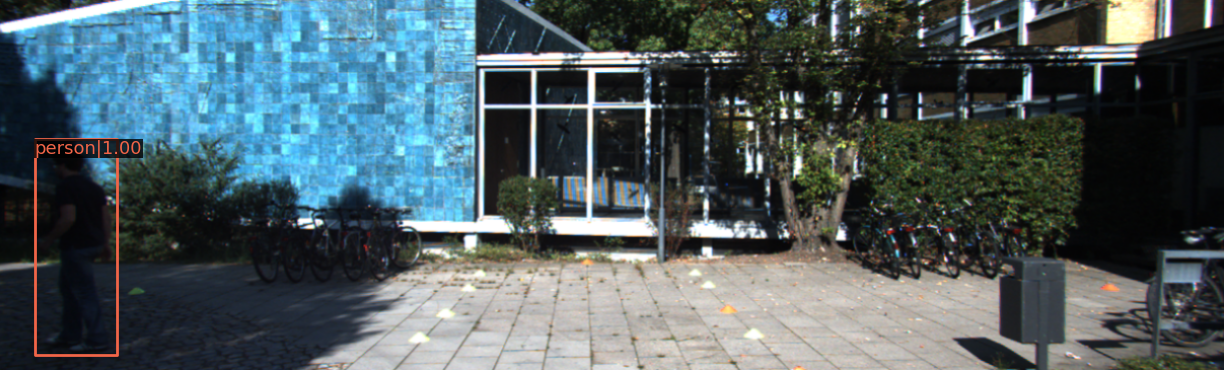person: (51, 150, 143, 364)
